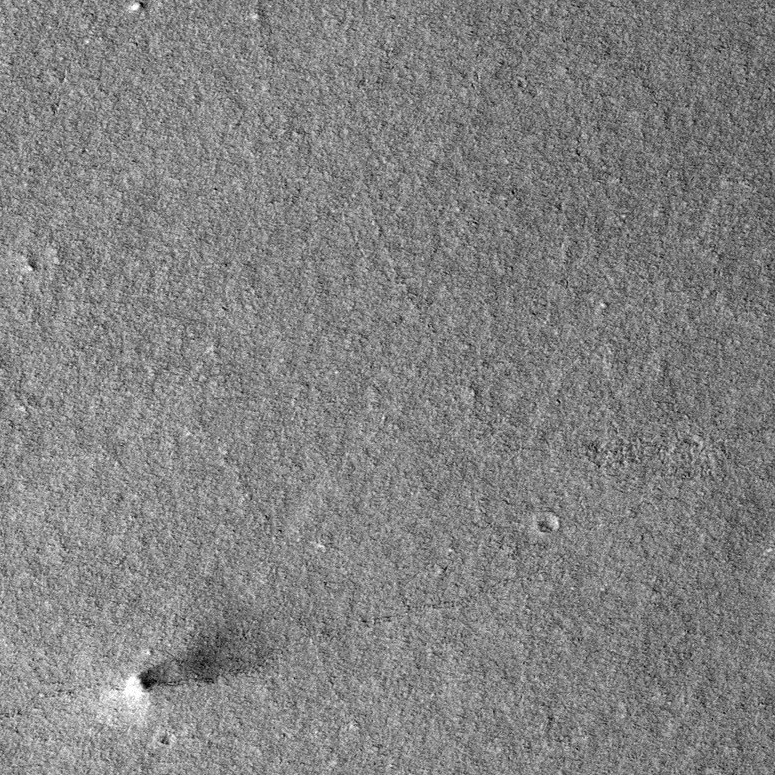dust_devil: (116, 620, 277, 707)
